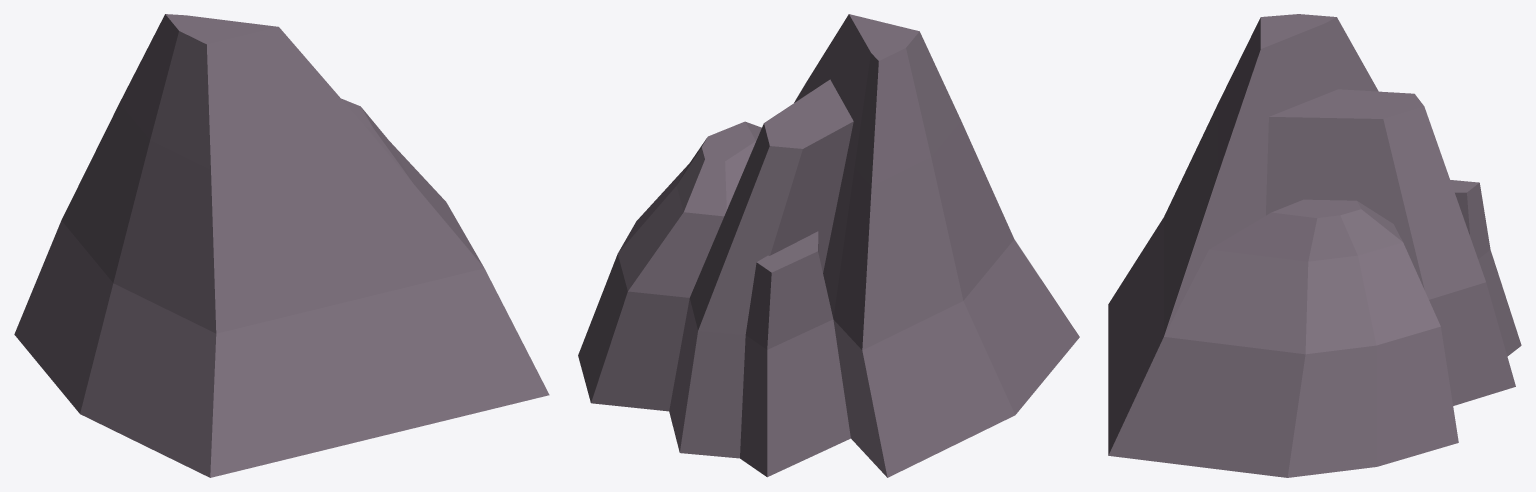
The model's file is Rock_v18.fbx.
The picture shows the model from 3 angles, left to right: view 1: azimuth 30°, elevation 25°; view 2: azimuth 150°, elevation 25°; view 3: azimuth 270°, elevation 25°; orthographic projection. The views are drawn at different scales.
Visible parts, largest first — view 1: Rock_v18; view 2: Rock_v18; view 3: Rock_v18.
Boxes of the visible parts, left/top/right/bottom form: Rock_v18: left=14, top=14, right=549, bottom=477; Rock_v18: left=578, top=14, right=1079, bottom=477; Rock_v18: left=1108, top=14, right=1521, bottom=477.
Size of the model in its own units: 43.61 by 35.11 by 40.5.
Materials: 1 (1 with a texture image).
